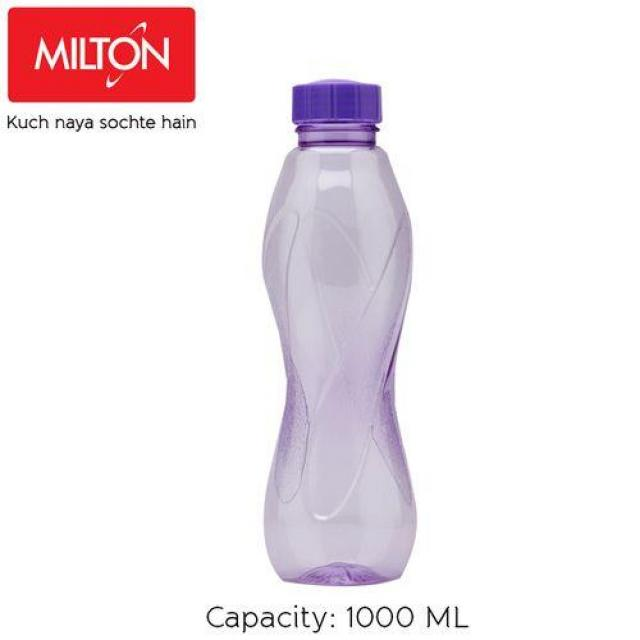plastic_bottle: (259, 67, 433, 601)
